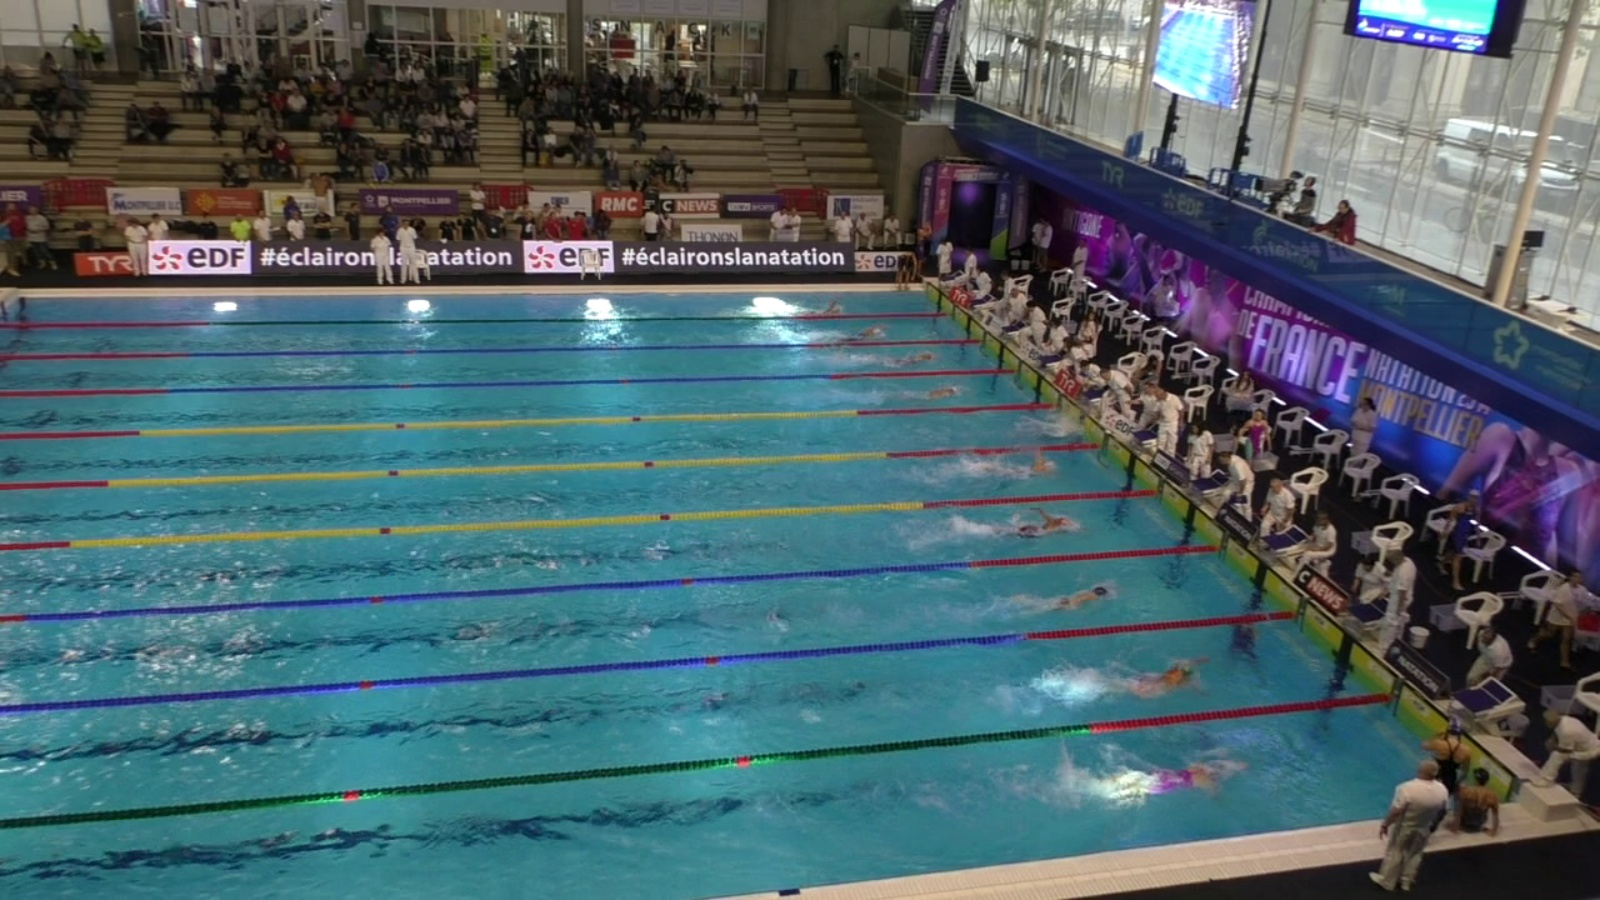swimmerwdd: (1063, 653, 1213, 707), (1087, 756, 1247, 803), (999, 584, 1115, 619), (974, 447, 1066, 487), (986, 509, 1084, 541), (813, 321, 895, 355), (1011, 412, 1085, 449), (782, 293, 853, 327), (885, 381, 970, 407), (855, 345, 938, 369)
